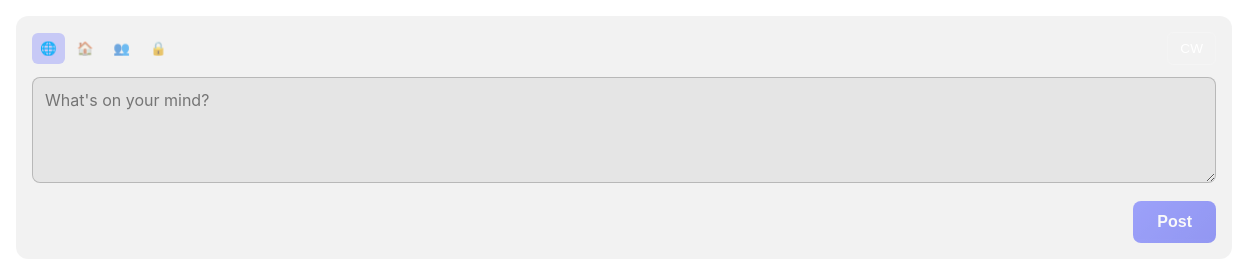
Scenario: NoteForm Component › shows character count
This screenshot has width=1249, height=276.
In the text box with placeholder "What's on your mind?": (624, 130) [32,77,1216,183], type "Hello"
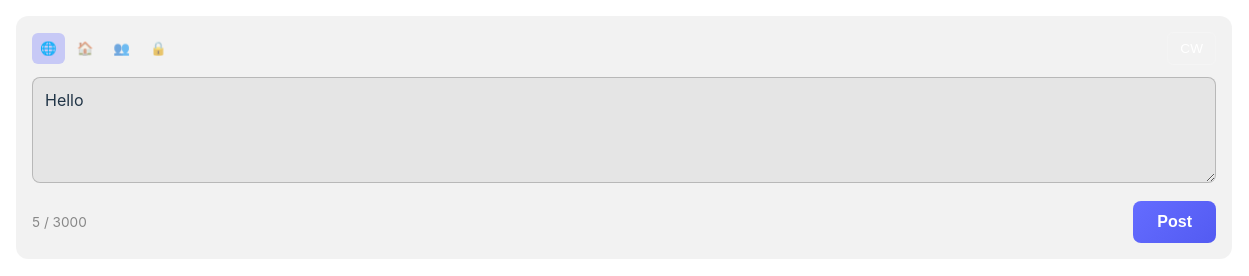
Expected: the text "5 / 3000" is shown, [32,214,87,230]
